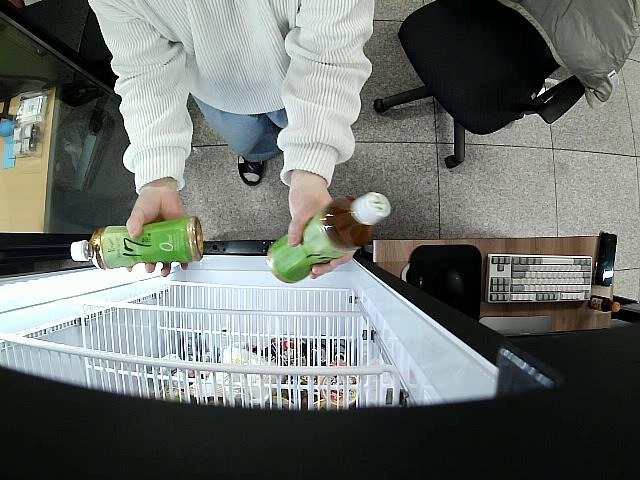00_hand: (288, 182, 354, 280), (127, 192, 188, 278)
19_17cha: (263, 190, 393, 284), (68, 214, 206, 267)
